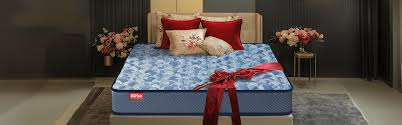bed-matress: (111, 42, 292, 113)
